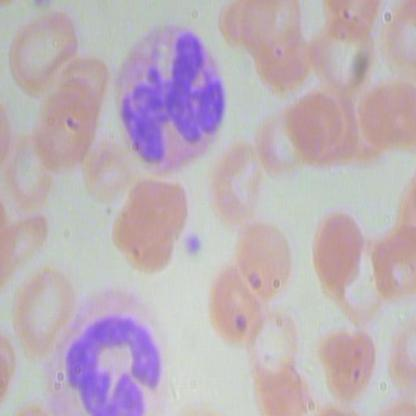Platelets: (181, 232, 202, 258)
WBC: (107, 17, 235, 178), (46, 285, 180, 415)
